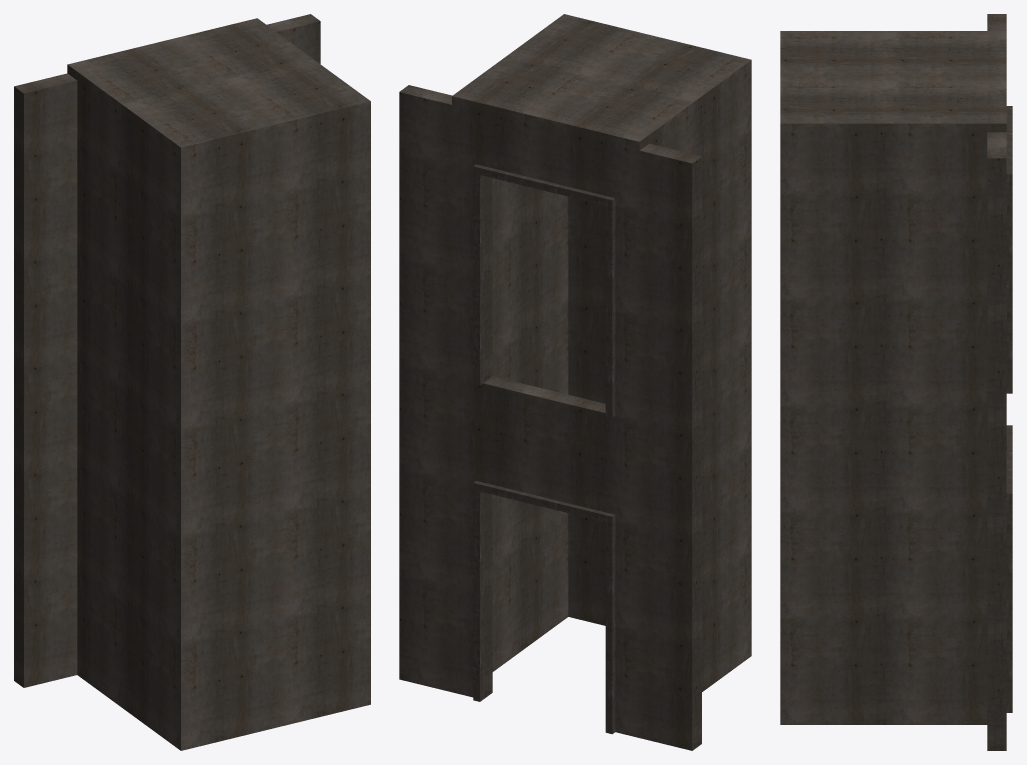
File: shaft.glb
The picture shows the model from 3 angles, left to right: view 1: azimuth 30°, elevation 25°; view 2: azimuth 150°, elevation 25°; view 3: azimuth 270°, elevation 25°; orthographic projection.
Visible parts, largest first — view 1: shaft; view 2: shaft; view 3: shaft.
Boxes of the visible parts, left/top/right/bottom form: shaft: left=14, top=14, right=370, bottom=750; shaft: left=399, top=14, right=751, bottom=750; shaft: left=780, top=14, right=1012, bottom=750.
Size of the model in its own units: 3.5 by 6.8 by 2.38.
Materials: 2 (2 with a texture image).
